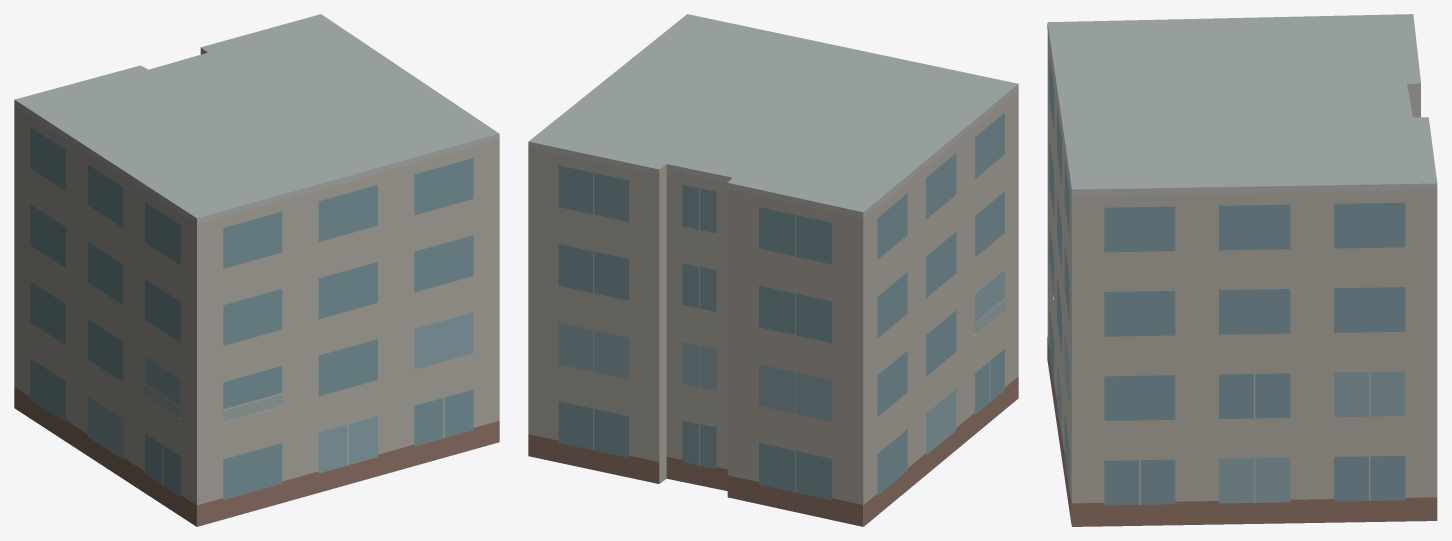
The model's file is survey-upis-32743165.glb.
3 renders of one model, left to right at view 1: azimuth 30°, elevation 25°; view 2: azimuth 150°, elevation 25°; view 3: azimuth 270°, elevation 25°, orthographic. The views are drawn at different scales.
Parts seen in each view (by area): view 1: survey-upis-32743165.tmp; view 2: survey-upis-32743165.tmp; view 3: survey-upis-32743165.tmp.
Part boxes in pixels (bbox=[...]): survey-upis-32743165.tmp: bbox=[14, 14, 499, 526]; survey-upis-32743165.tmp: bbox=[528, 14, 1018, 526]; survey-upis-32743165.tmp: bbox=[1047, 14, 1437, 526].
Bounding box in the file's own units: 13.96 × 12.5 × 13.11.
